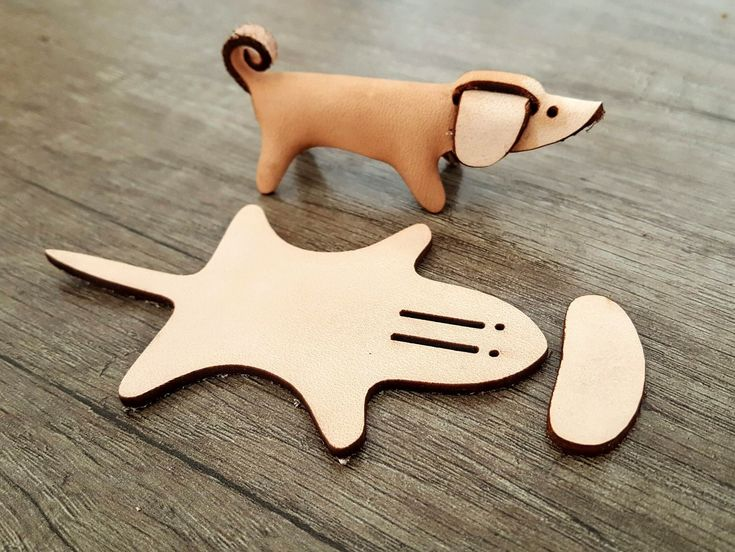cuero: (222, 26, 604, 214)
